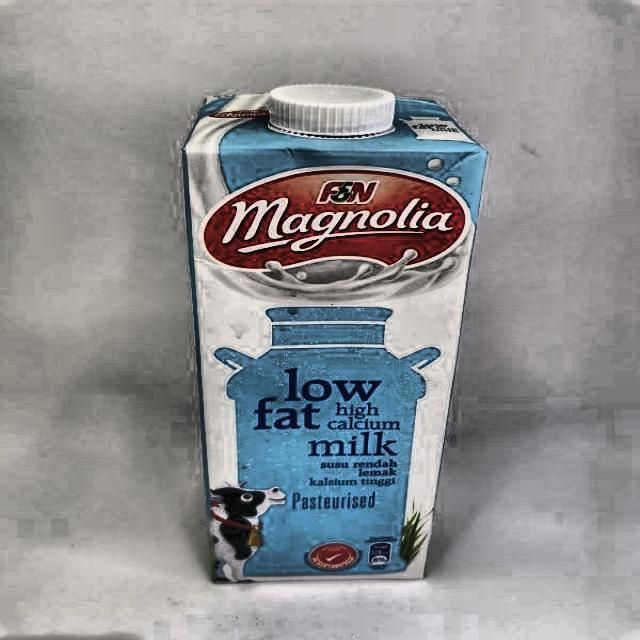cardboard: (180, 85, 489, 582)
